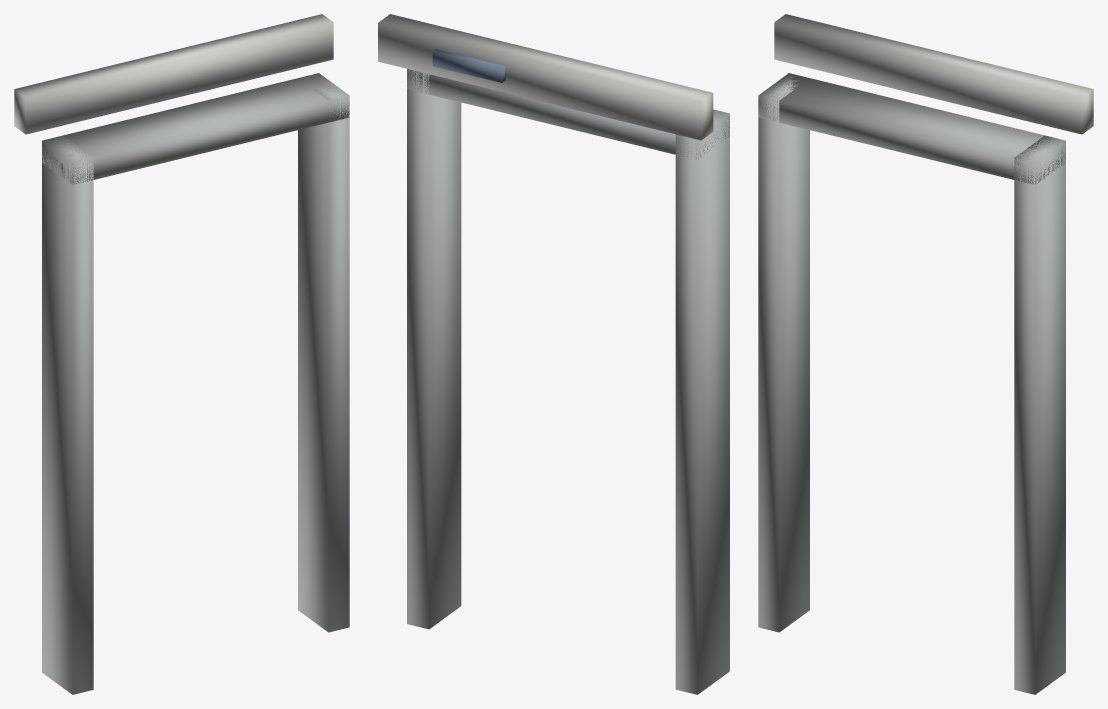
The model's file is doorway_hospital_w106_h220_d24.glb.
3 renders of one model, left to right at view 1: azimuth 30°, elevation 25°; view 2: azimuth 150°, elevation 25°; view 3: azimuth 330°, elevation 25°, orthographic. The views are drawn at different scales.
Visible parts, largest first — view 1: world; view 2: world; view 3: world.
Boxes of the visible parts, x1,y1,x2,y2 form: world: (14, 14, 349, 694); world: (378, 14, 729, 694); world: (758, 14, 1093, 694).
Bounding box in the file's own units: 1.39 × 2.5 × 0.36.
